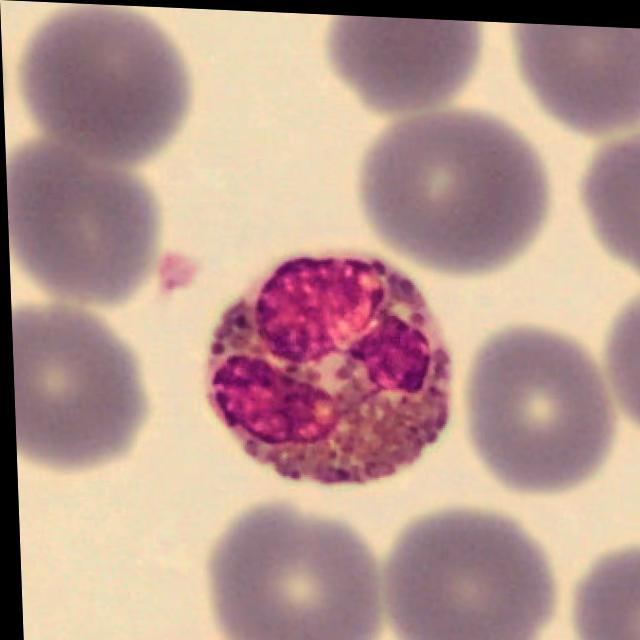Eosinofilo: (202, 249, 447, 480)
